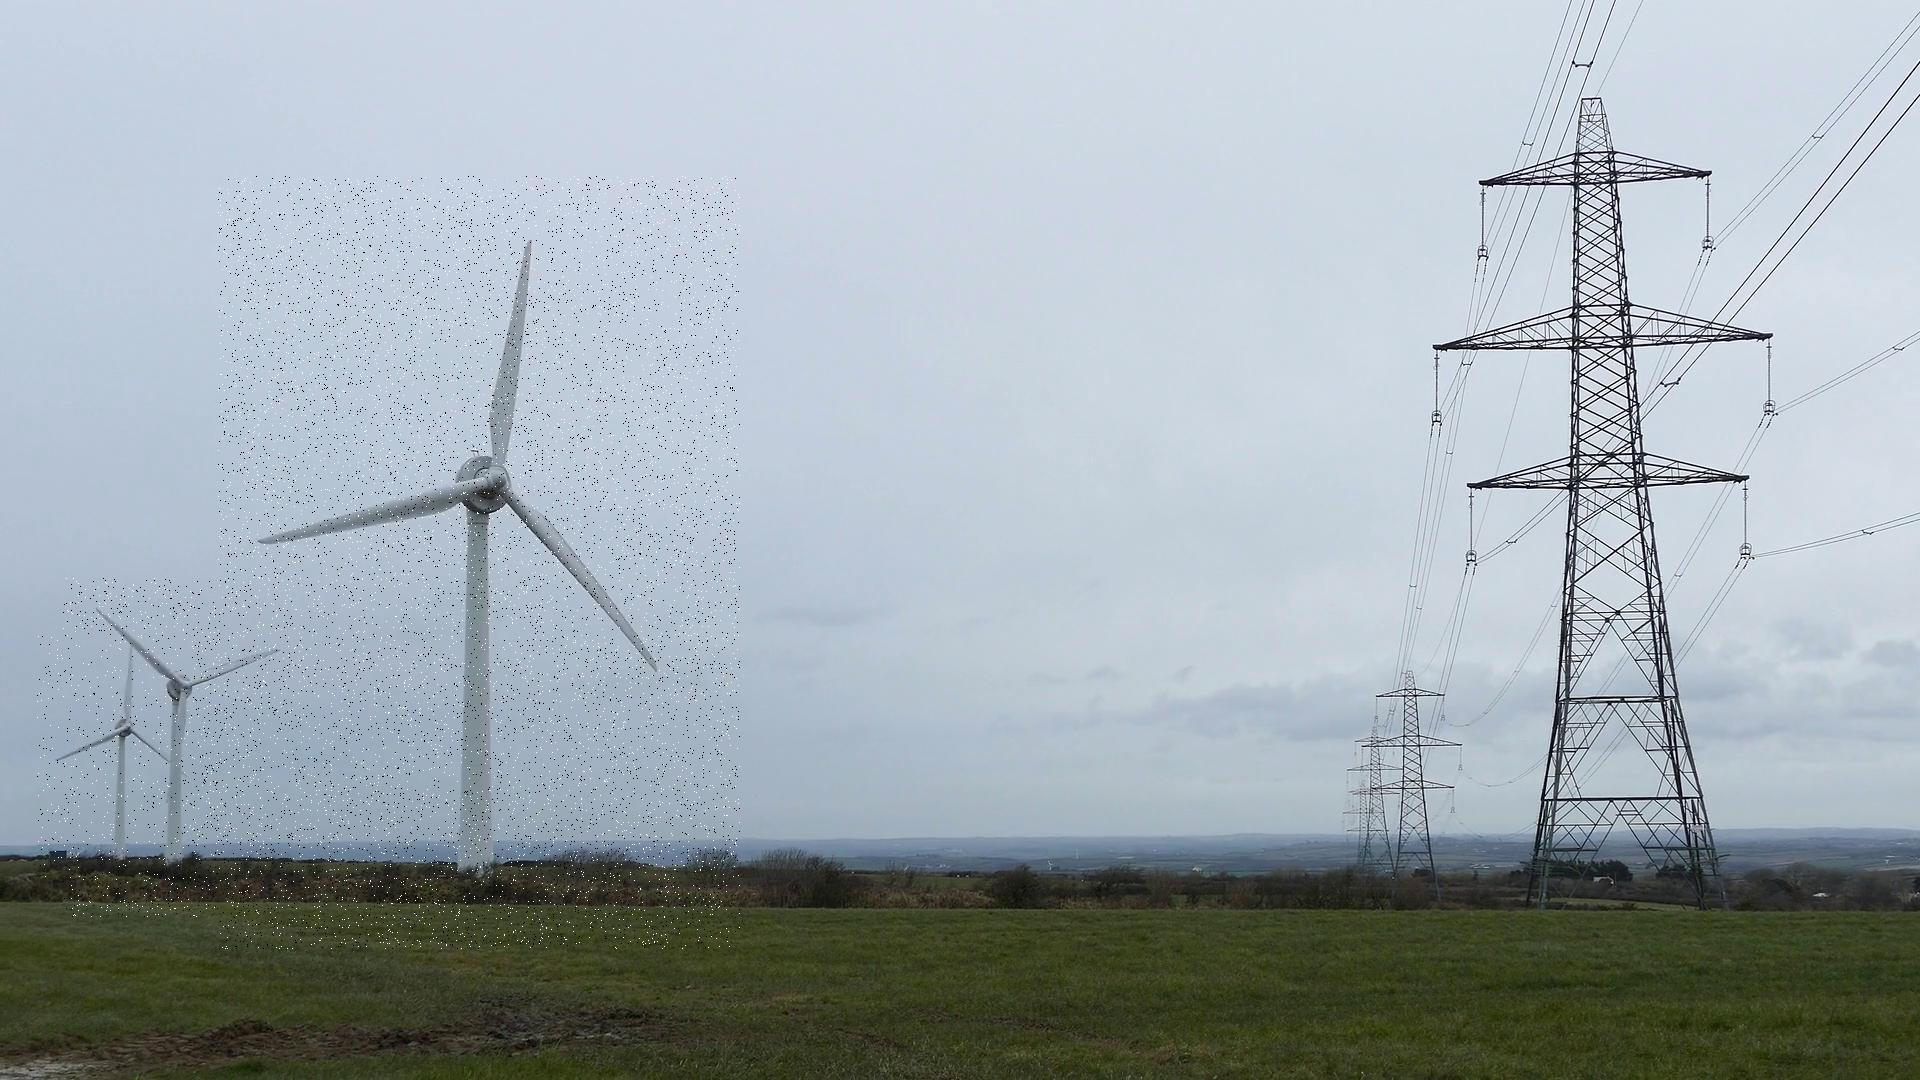cable tower: (1432, 94, 1771, 913), (1367, 669, 1462, 905), (1345, 723, 1402, 876), (1341, 786, 1385, 866)
turbine: (218, 175, 740, 949), (63, 579, 293, 918), (37, 633, 193, 887)
